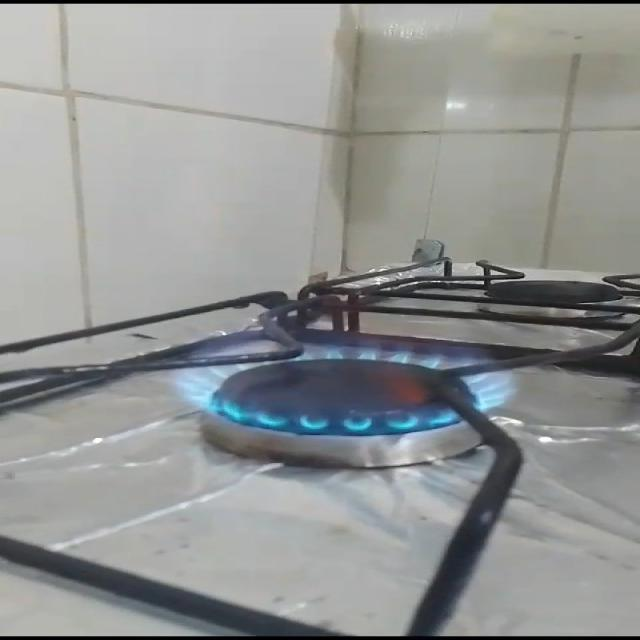fogo-ypXI: (160, 328, 523, 440)
